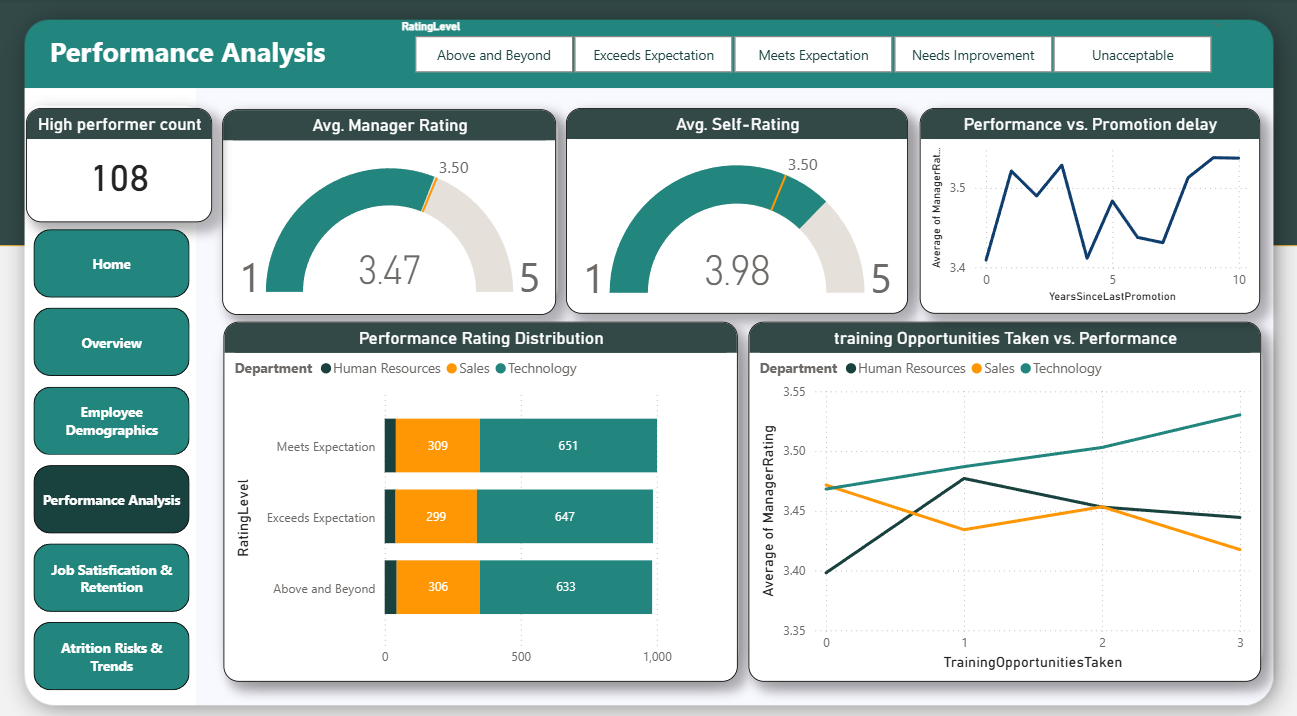

This screenshot's page, from the dashboard's own definition file:
{"tool":"powerbi","page":{"name":"Performance Analysis","canvas":[1280,720],"ordinal":3},"visuals":[{"type":"gauge","title":" Avg. Manager Rating","fields":{"MaxValue":["_Measures.MaxRating"],"MinValue":["_Measures.MinRating"],"TargetValue":["_Measures.OptimalRating"],"Y":["Avg(PerformanceRating2.ManagerRating)"]},"box":[221.2,108.8,327.5,201.2],"z":0},{"type":"gauge","title":"Avg. Self-Rating","fields":{"MaxValue":["_Measures.MaxRating"],"MinValue":["_Measures.MinRating"],"TargetValue":["_Measures.OptimalRating"],"Y":["Avg(PerformanceRating2.SelfRating)"]},"box":[558.3,108.3,335,201.7],"z":1000},{"type":"barChart","title":"Performance Rating Distribution","fields":{"Category":["RatingLevel.RatingLevel"],"Y":["Count(PerformanceRating2.EmployeeID)"],"Series":["Department.Department"]},"box":[222.5,317.5,503.8,352.5],"z":2000},{"type":"lineChart","title":"training Opportunities Taken vs. Performance","fields":{"Category":["PerformanceRating2.TrainingOpportunitiesTaken"],"Y":["Avg(PerformanceRating2.ManagerRating)"],"Series":["Department.Department"]},"box":[737.5,317.5,502.5,352.5],"z":3000},{"type":"lineChart","title":"Performance vs. Promotion delay","fields":{"Category":["Sum(Employee.YearsSinceLastPromotion)"],"Y":["Avg(PerformanceRatings.ManagerRating)"]},"box":[905,108.3,333.3,201.7],"z":4000},{"type":"card","title":"High performer count","fields":{"Values":["_Measures.High Performer Count"]},"box":[30,108.3,182.5,111.7],"z":5000},{"type":"textbox","box":[47.9,29.4,299.4,50.3],"z":6000},{"type":"pageNavigator","box":[36.7,226.7,153.3,453.3],"z":7000},{"type":"slicer","title":"Rating Level","fields":{"Values":["RatingLevel.RatingLevel"]},"box":[385.3,16,830.7,63.8],"z":8000}]}

Visuals, with their boxes in screenshot pixels (x1, y1, x2, y2), scaled from the page's 1280x720 canvas onto the 1297x716 screenshot:
" Avg. Manager Rating" gauge: <bbox>224, 108, 556, 308</bbox>
"Avg. Self-Rating" gauge: <bbox>566, 108, 905, 308</bbox>
"Performance Rating Distribution" barChart: <bbox>225, 316, 736, 666</bbox>
"training Opportunities Taken vs. Performance" lineChart: <bbox>747, 316, 1256, 666</bbox>
"Performance vs. Promotion delay" lineChart: <bbox>917, 108, 1255, 308</bbox>
"High performer count" card: <bbox>30, 108, 215, 219</bbox>
textbox: <bbox>49, 29, 352, 79</bbox>
pageNavigator: <bbox>37, 225, 193, 676</bbox>
"Rating Level" slicer: <bbox>390, 16, 1232, 79</bbox>
